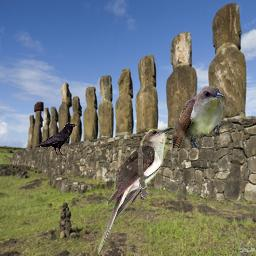Crow: (37, 122, 78, 155)
Cuckoo: (98, 127, 174, 254), (172, 86, 225, 148)
